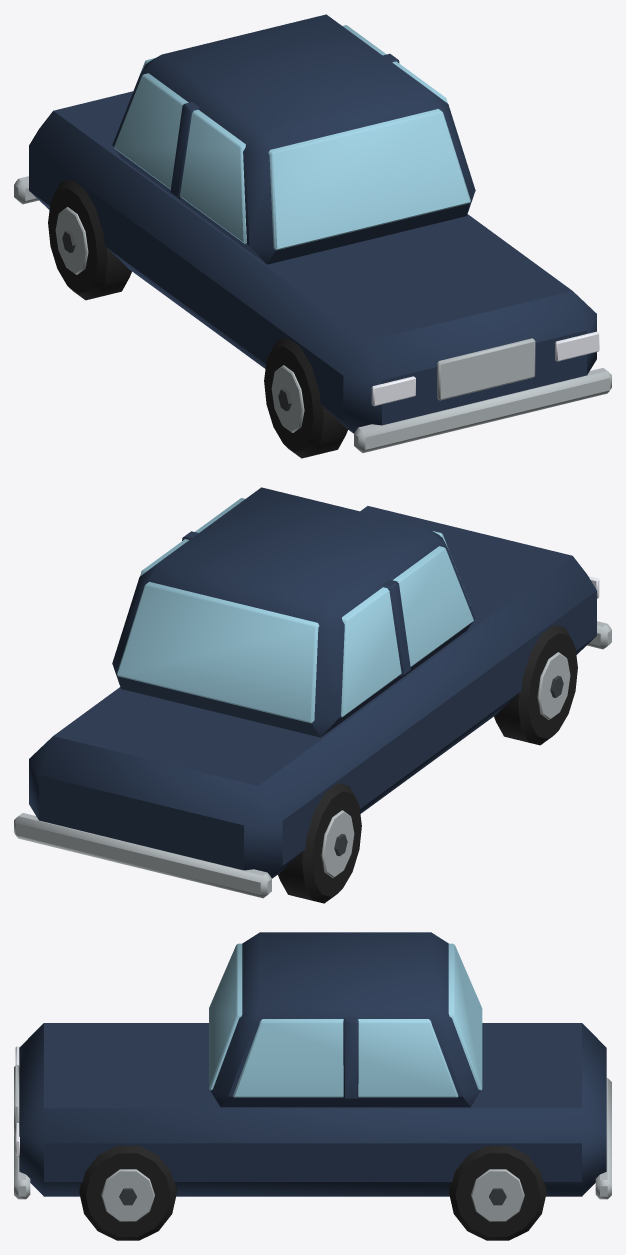
The model's file is 162_berline_luxe.fbx.
3 views of the same model, one above another, from view 1: azimuth 30°, elevation 25°; view 2: azimuth 150°, elevation 25°; view 3: azimuth 270°, elevation 25° (orthographic). The views are drawn at different scales.
Visible parts, largest first — view 1: Carrosserie, Vitres, Roues; view 2: Carrosserie, Vitres, Roues; view 3: Carrosserie, Vitres, Roues.
Boxes of the visible parts, x1,y1,x2,y2 form: Carrosserie: (14, 14, 611, 452); Vitres: (114, 25, 470, 250); Roues: (48, 180, 347, 458); Carrosserie: (14, 487, 611, 898); Vitres: (117, 498, 473, 723); Roues: (278, 625, 577, 903); Carrosserie: (14, 932, 611, 1199); Vitres: (209, 943, 482, 1097); Roues: (79, 1145, 546, 1240).
Size of the model in its own units: 1.4 by 1.26 by 3.08.
1 material, 1 textured.
